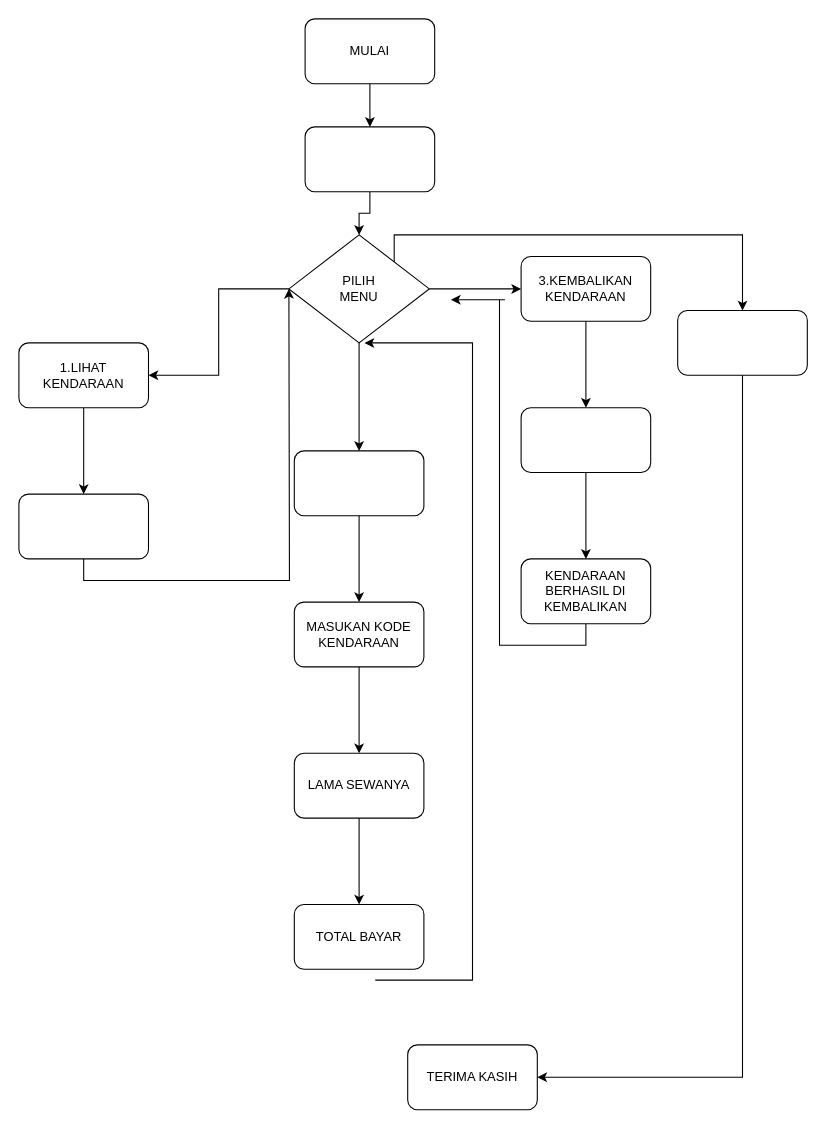
Some shapes in this 826 by 1129 pixel diagram are drawn without their labels. Here are the shapes that lost their labels. From the top down, the centre of each, then its label:
pixel 369 159: TAMPILAN MENU
pixel 742 342: 4.KELUAR
pixel 585 440: MASUKAN KODE KNDARAAN
pixel 358 483: 2.SEWA KENDARAAN
pixel 83 526: JENIS KENDARAAN KODE JENIS HARGA SETATUS
